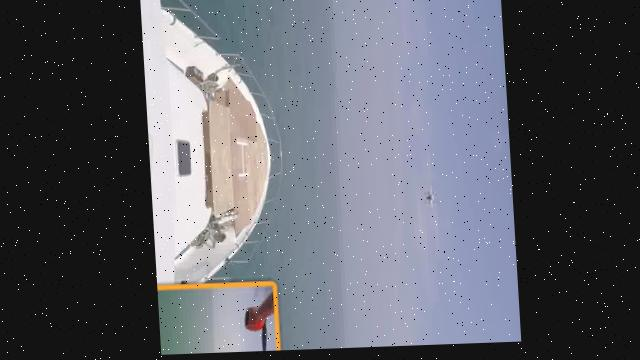drone: (140, 0, 178, 356)
